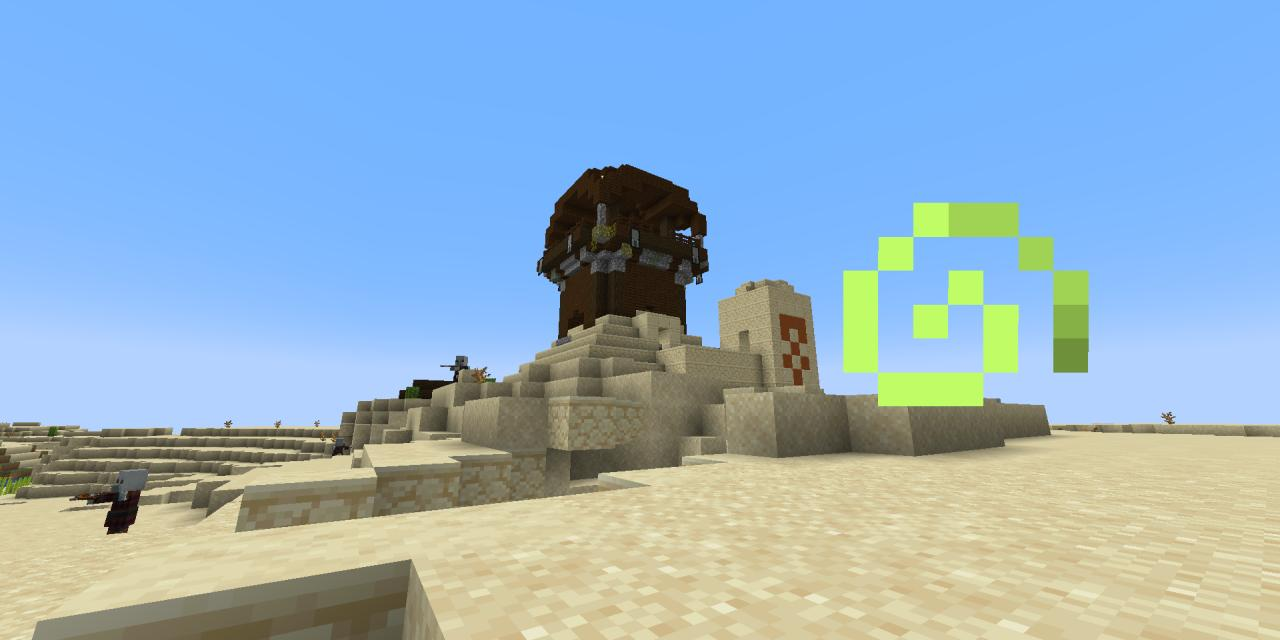pillager outpost: (522, 154, 726, 376)
